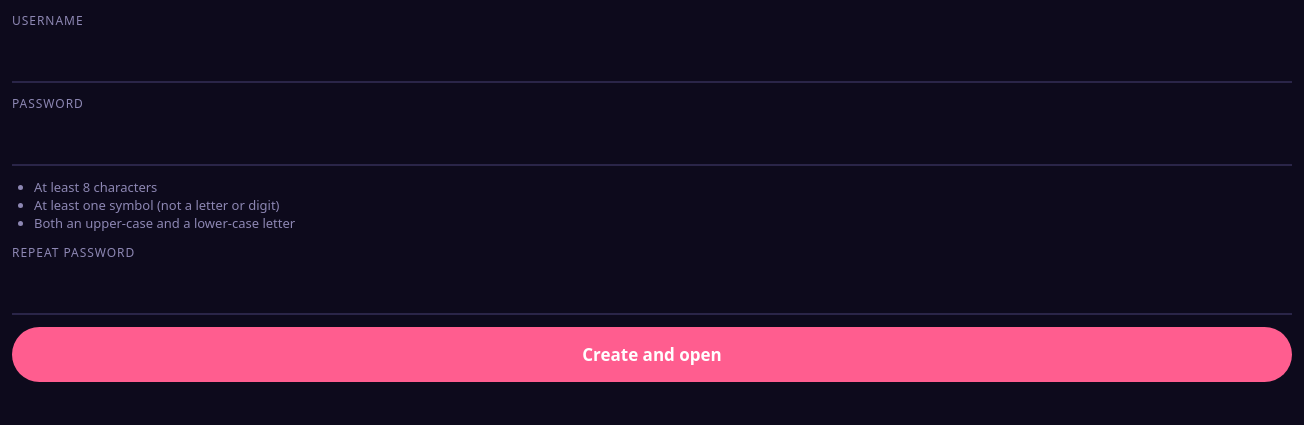
Test: SetupForm password policy › rejects a short password and names the length rule only
Type "anna" into the field labelled "Username" at (652, 58), box [12,33,1292,83]
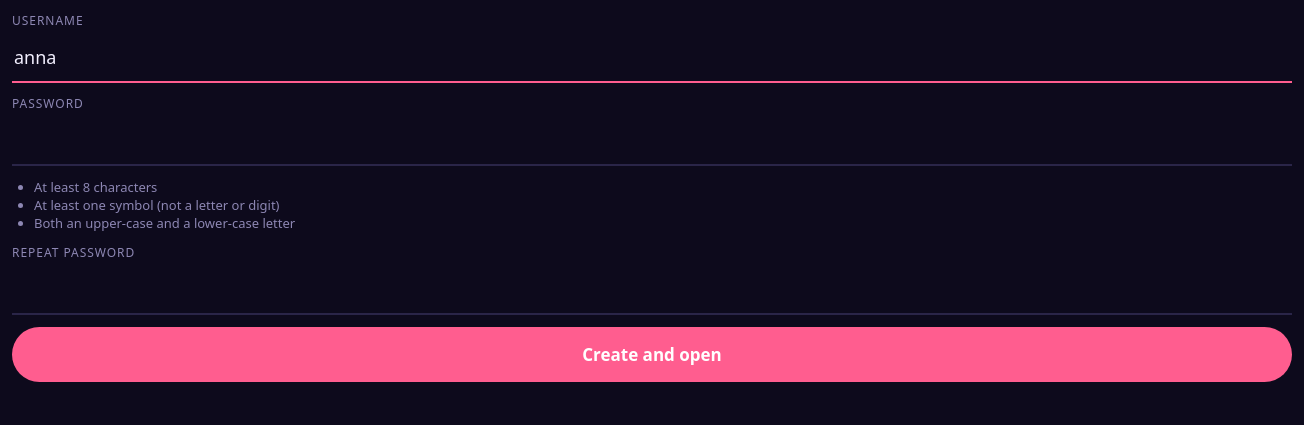
Type "Ab!" into the password field labelled "Password" at (652, 141), box [12,116,1292,166]
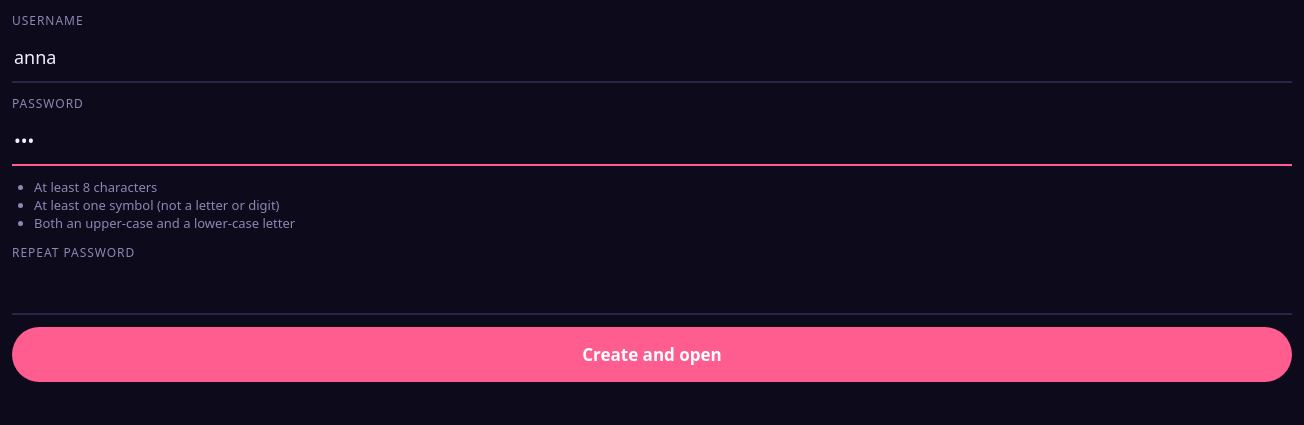
Type "Ab!" into the password field labelled "Repeat password" at (652, 290), box [12,265,1292,315]
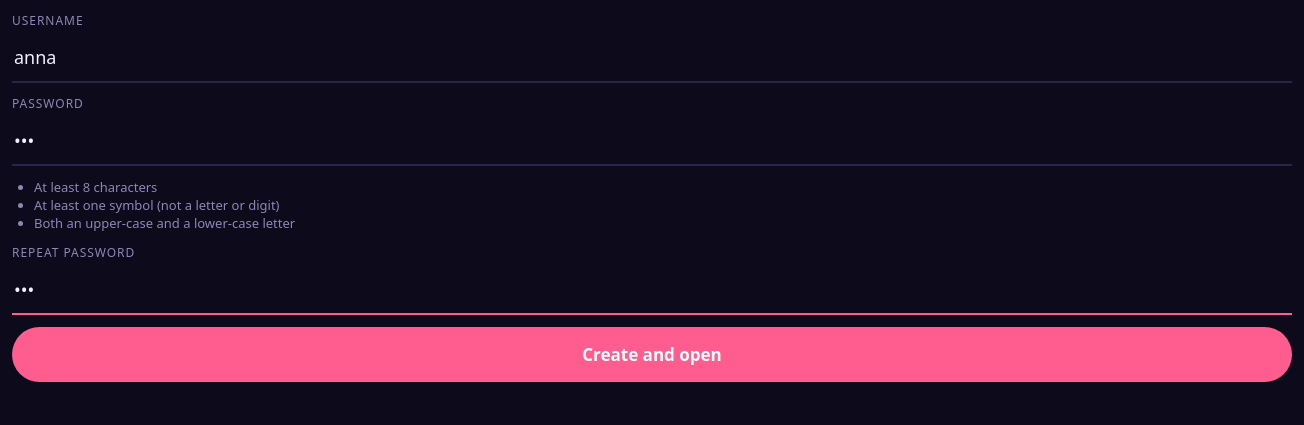
Click the button "Create and open" at (652, 354), box [12,327,1292,382]
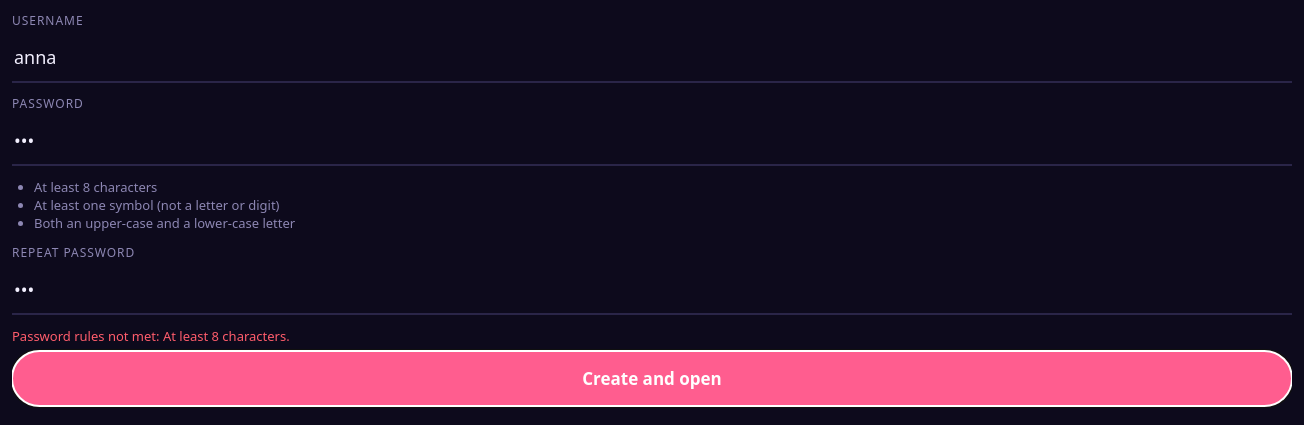
Expected: the message does not show "symbol", [12,327,290,345]
Expected: the message shows "At least 8 characters", [12,327,290,345]
